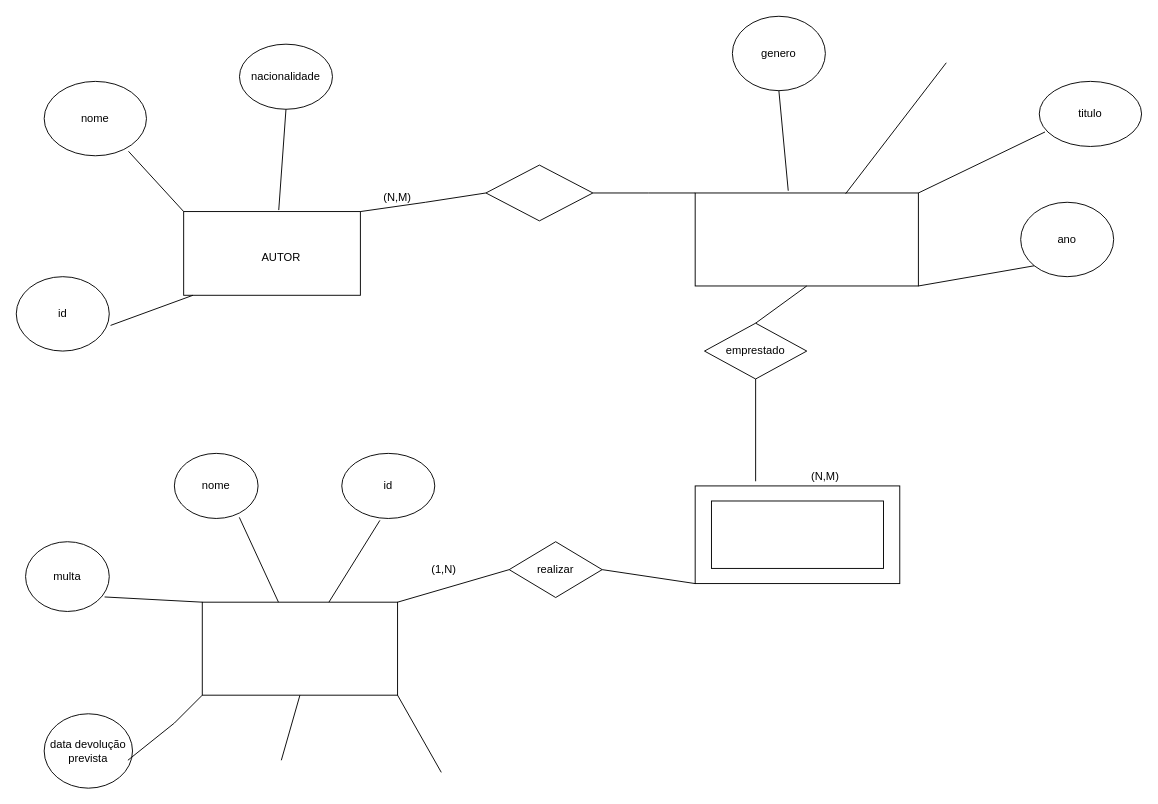
The diagram is 1158 pixels wide and 804 high, and some of its shapes have lost their labels. The centre of each missing label's shape, as x and y in pixels:
EMPRESTIMO: the point at 797,534
escrever: the point at 539,192
LEITOR: the point at 299,648
LIVRO: the point at 806,239
